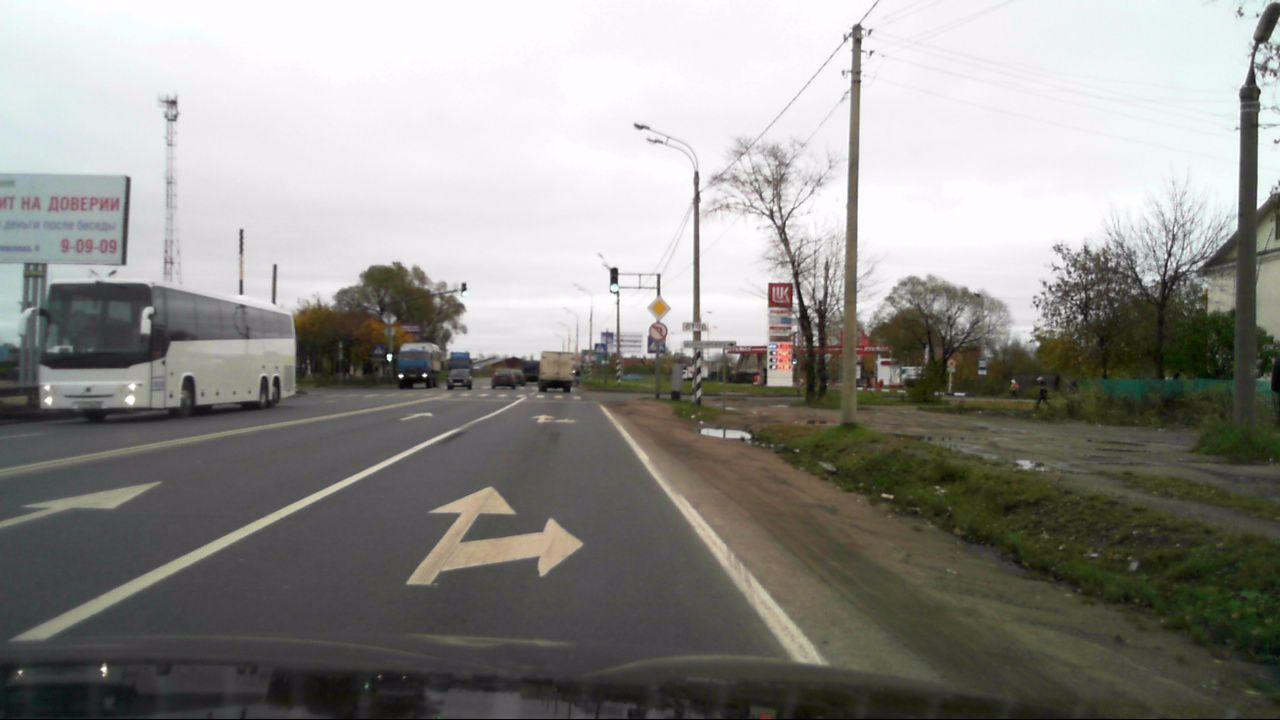2_1: (646, 296, 671, 319)
3_18_2: (648, 321, 668, 340)
5_19_1: (647, 336, 667, 354), (593, 342, 608, 354)
6_16: (682, 322, 709, 332)
